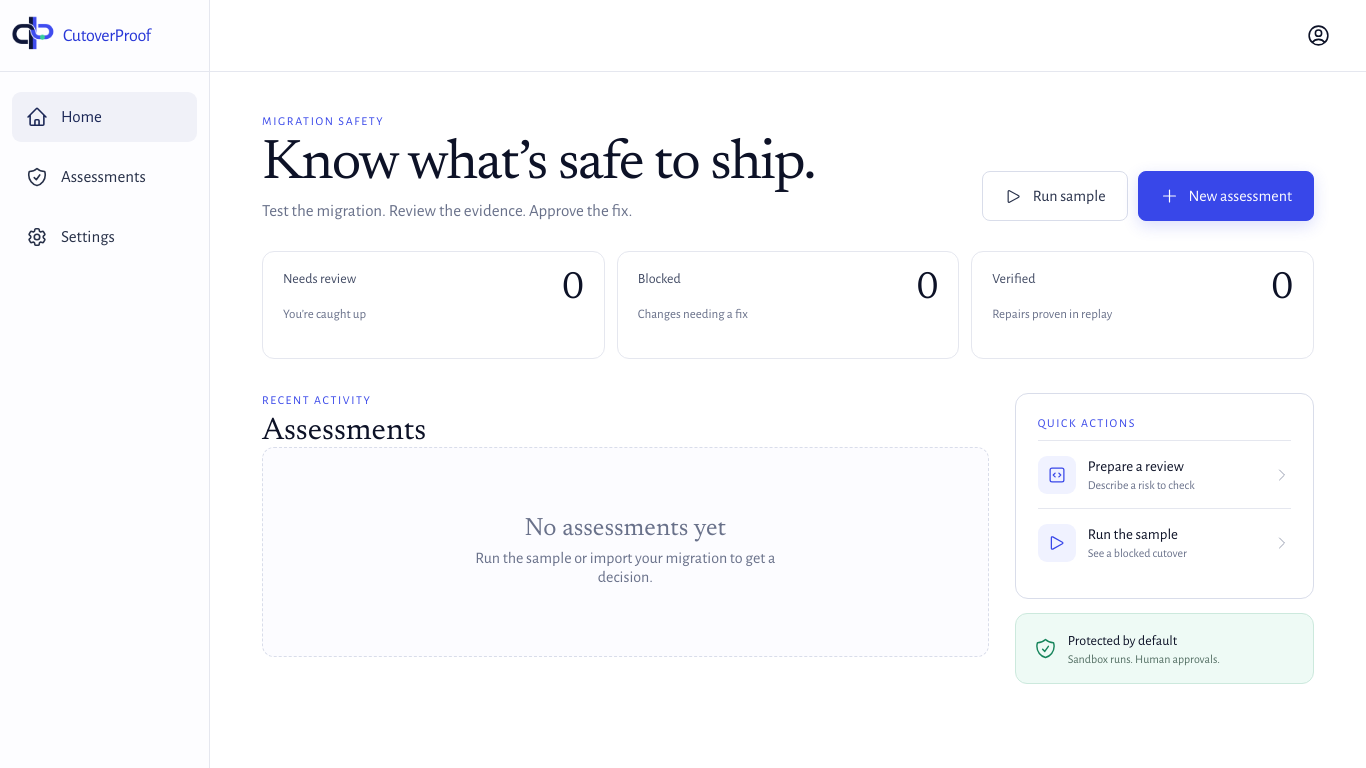
Test: CutoverProof customer workspace › lets the engineer prepare an agent review directly inside the platform
Click the button "Prepare a review Describe a risk to check": (1164, 474) [1038,440,1291,508]
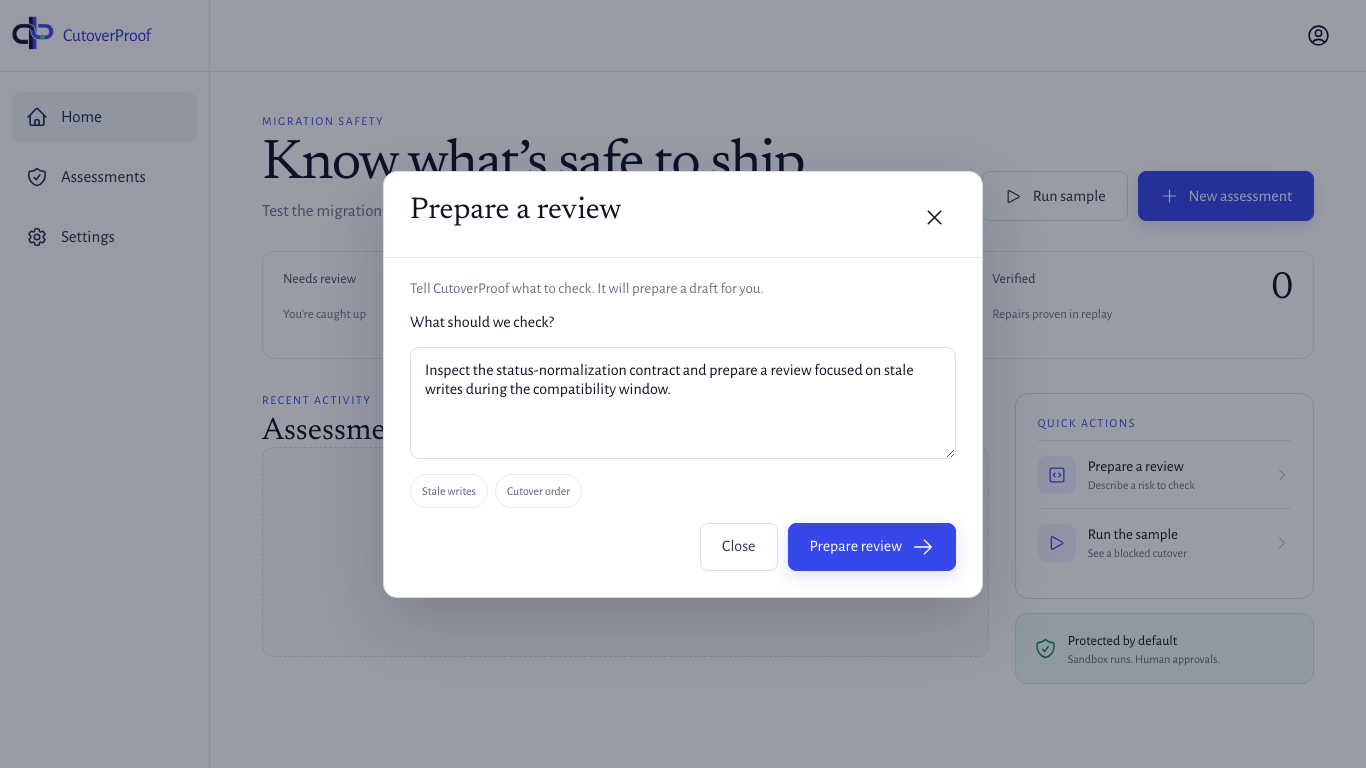
Check: the dialog "Prepare a review" is shown, box [383,170,983,598]
Click the button "Prepare review": (872, 546) [788,522,956,570]
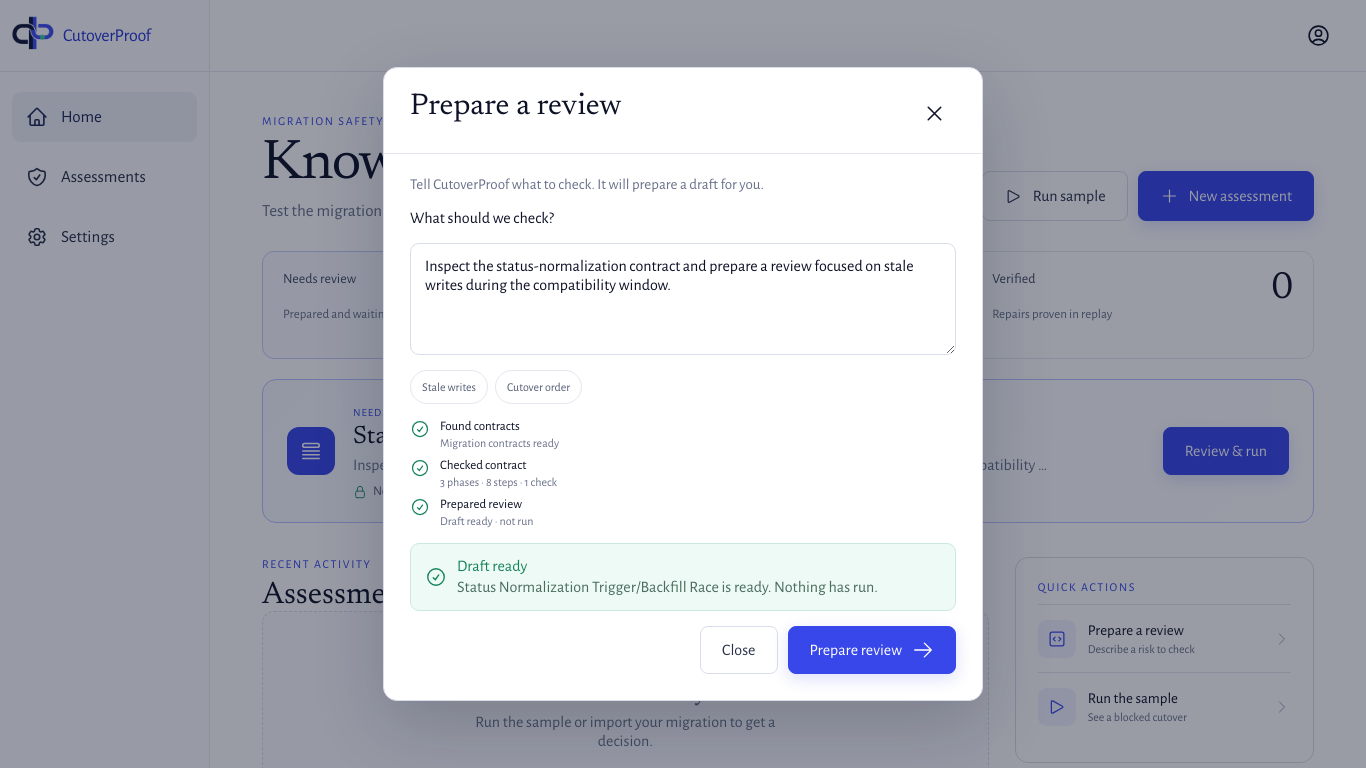
Check: the text "Found contracts" is shown, box [440,420,520,433]
Check: the text "Checked contract" is shown, box [440,459,526,472]
Check: the text "Prepared review" is shown, box [440,498,522,511]
